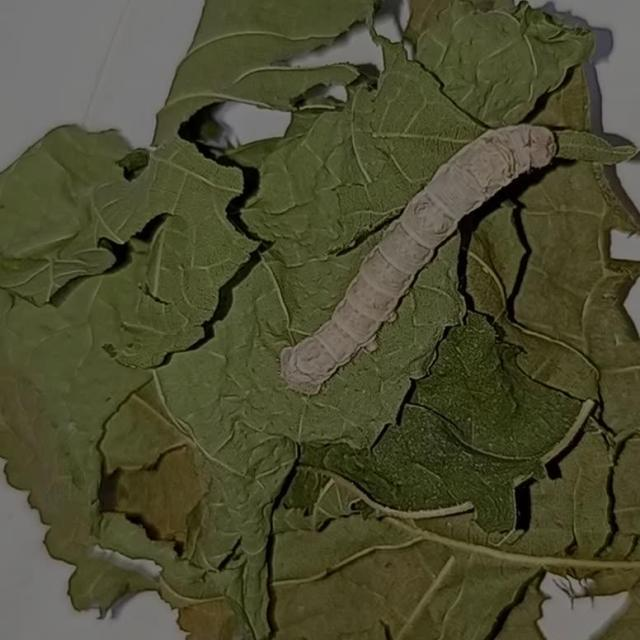Healthy: (270, 83, 587, 407)
